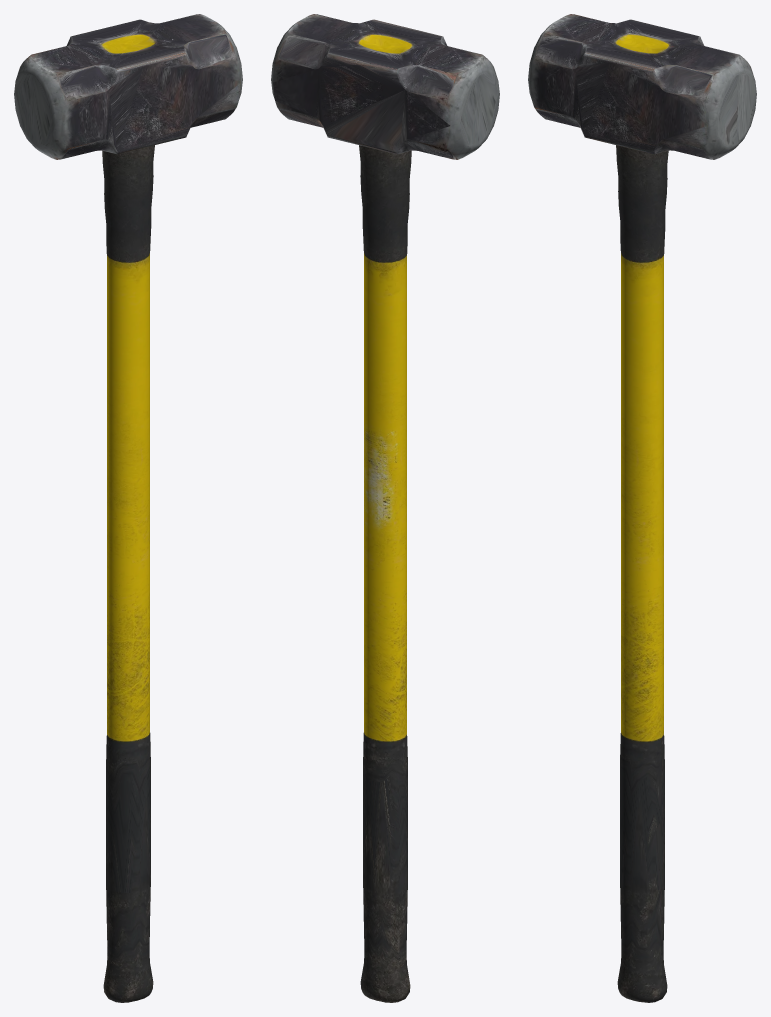
File: sledgehammer-01.glb
3 views of the same model, side by side, from view 1: azimuth 30°, elevation 25°; view 2: azimuth 150°, elevation 25°; view 3: azimuth 330°, elevation 25° (orthographic).
Visible parts, largest first — view 1: sledgehammer_01; view 2: sledgehammer_01; view 3: sledgehammer_01.
Part boxes in pixels (x1,y1,x2,y2): sledgehammer_01: (14, 14, 242, 1002); sledgehammer_01: (271, 14, 499, 1002); sledgehammer_01: (528, 14, 756, 1002).
Bounding box in the file's own units: 0.2084 × 1.01 × 0.0905.
Materials: 1 (1 with a texture image).
